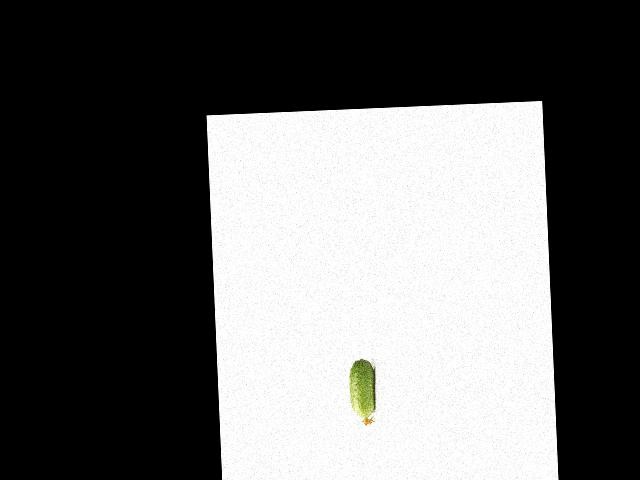cucumber: (348, 357, 377, 425)
